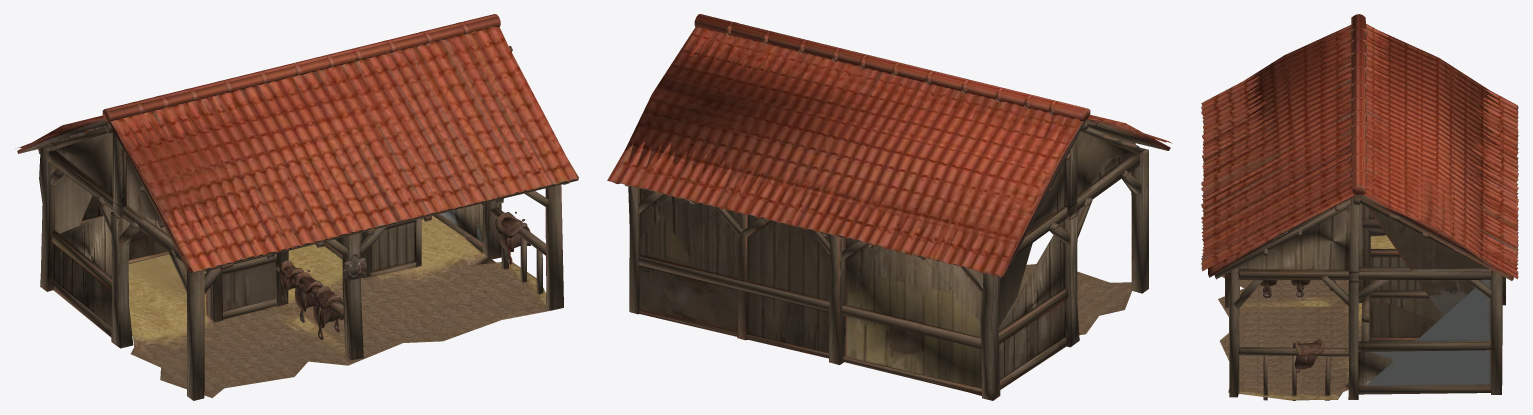
File: stable.glb
The picture shows the model from 3 angles, left to right: view 1: azimuth 30°, elevation 25°; view 2: azimuth 150°, elevation 25°; view 3: azimuth 270°, elevation 25°; orthographic projection. The views are drawn at different scales.
Bounding box in the file's own units: 0.9487 × 0.5562 × 0.73.
Materials: 1 (1 with a texture image).
